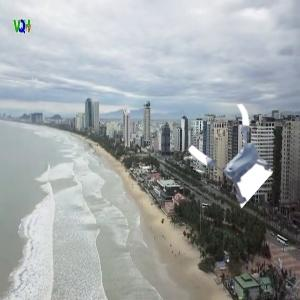drone: (195, 108, 281, 194)
